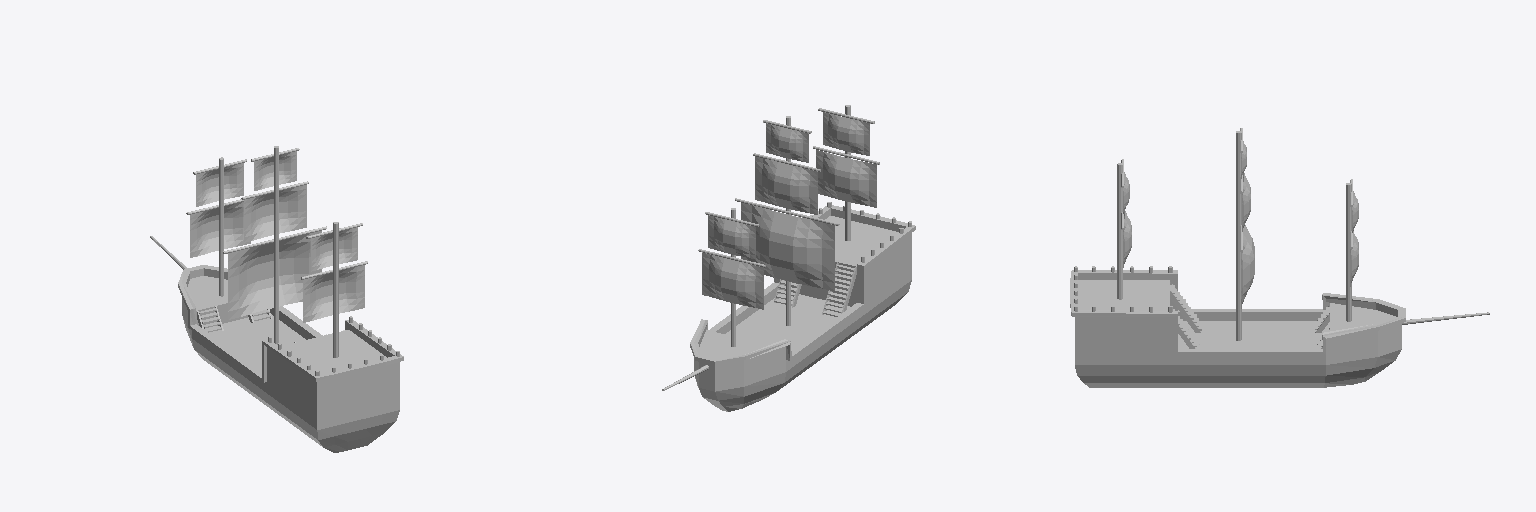
The model's file is ship3.obj.
3 views of the same model, side by side, from view 1: azimuth 30°, elevation 25°; view 2: azimuth 150°, elevation 25°; view 3: azimuth 270°, elevation 25° (orthographic).
Parts seen in each view (by area): view 1: Cube, Cube.003, Cube.004, Cube.006, Cube.001, Cube.002, Cube.007, Cube.005; view 2: Cube, Cube.003, Cube.004, Cube.001, Cube.006, Cube.002, Cube.007, Cube.005, Cube.008; view 3: Cube, Cube.003.
Part boxes in pixels (left/top/right/bottom): Cube: left=150, top=146, right=403, bottom=452; Cube.003: left=228, top=231, right=321, bottom=319; Cube.004: left=244, top=185, right=306, bottom=242; Cube.006: left=303, top=265, right=364, bottom=322; Cube.001: left=190, top=202, right=250, bottom=257; Cube.002: left=196, top=163, right=243, bottom=206; Cube.007: left=311, top=227, right=357, bottom=271; Cube.005: left=254, top=151, right=296, bottom=190; Cube: left=662, top=105, right=915, bottom=411; Cube.003: left=741, top=203, right=834, bottom=291; Cube.004: left=755, top=156, right=817, bottom=214; Cube.001: left=702, top=253, right=763, bottom=309; Cube.006: left=816, top=150, right=876, bottom=207; Cube.002: left=708, top=215, right=755, bottom=259; Cube.007: left=823, top=112, right=869, bottom=155; Cube.005: left=766, top=123, right=808, bottom=162; Cube.008: left=774, top=265, right=854, bottom=316; Cube: left=1070, top=128, right=1489, bottom=387; Cube.003: left=1241, top=225, right=1254, bottom=308.
Size of the model in its own units: 4.71 by 10.8 by 16.55.